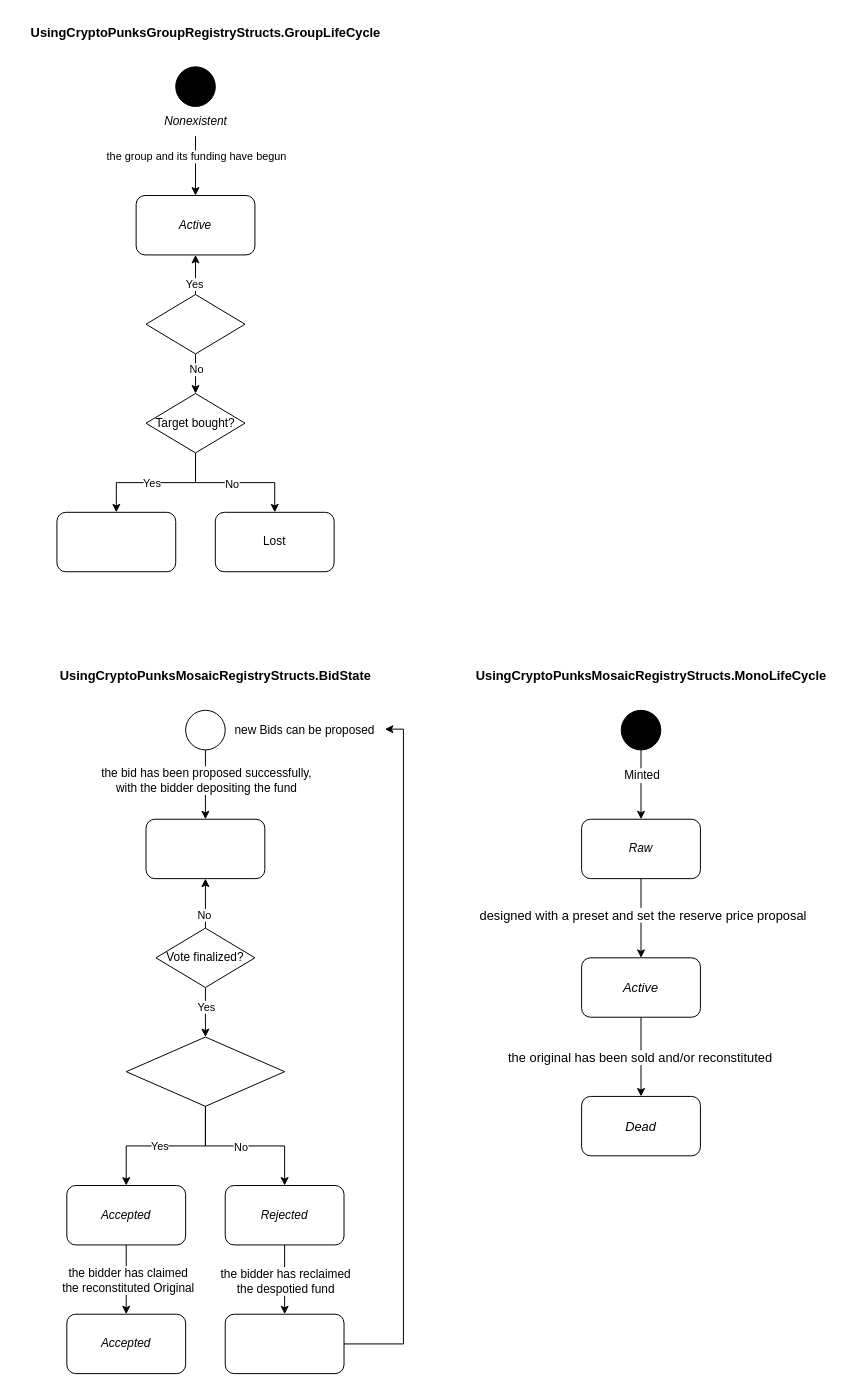
Some shapes in this 855 by 1391 pixel diagram are drawn without their labels. The shapes that lost their labels are listed below. From the top down, each one's box as (x1, y1, x2, y2) in pixels, then its label:
(145, 294, 245, 354): Within expiry?
(56, 511, 176, 572): Won
(145, 818, 265, 879): Proposed
(125, 1036, 285, 1106): Won the majority vote?
(224, 1313, 344, 1374): Refunded
